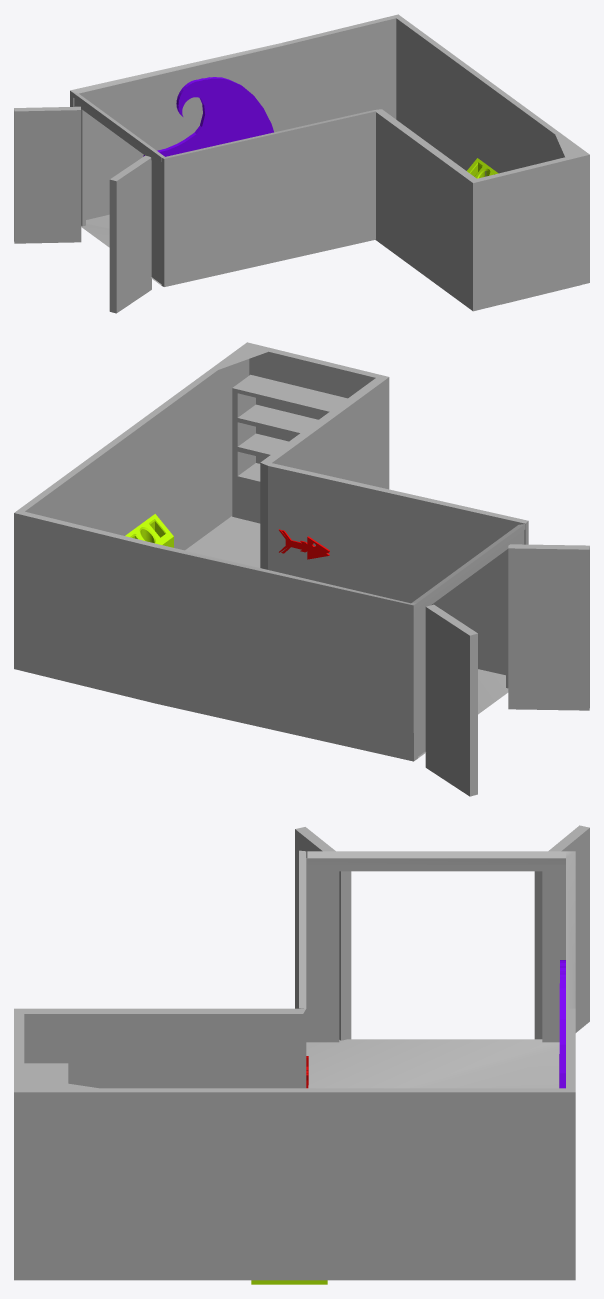
The model's file is hallway probuilded.fbx.
3 renders of one model, top to bottom at view 1: azimuth 30°, elevation 25°; view 2: azimuth 150°, elevation 25°; view 3: azimuth 270°, elevation 25°, orthographic. The views are drawn at different scales.
Visible parts, largest first — view 1: Plane, Cube_014__1_, Cube_014, Cylinder, Door; view 2: Plane, Cube_014, Cube_014__1_, Cube_002, Door, Cube_009, Cube_011; view 3: Plane, Door, Cube_014__1_, Cube_014, Cylinder, Cube_002.
Boxes of the visible parts, x1,y1,x2,y2 form: Plane: (70, 14, 589, 311); Cube_014__1_: (14, 106, 81, 243); Cube_014: (109, 155, 151, 313); Cylinder: (143, 77, 273, 156); Door: (74, 98, 161, 283); Plane: (14, 342, 528, 761); Cube_014: (508, 544, 589, 710); Cube_014__1_: (425, 604, 477, 796); Cube_002: (232, 374, 347, 523); Door: (418, 530, 524, 756); Cube_009: (125, 514, 173, 547); Cube_011: (279, 529, 329, 559); Plane: (14, 850, 575, 1280); Door: (306, 858, 565, 1042); Cube_014__1_: (534, 825, 589, 1039); Cube_014: (295, 827, 351, 1040); Cylinder: (559, 960, 565, 1088); Cube_002: (24, 1063, 68, 1083).
Size of the model in its own units: 4866 by 1721 by 4328.
